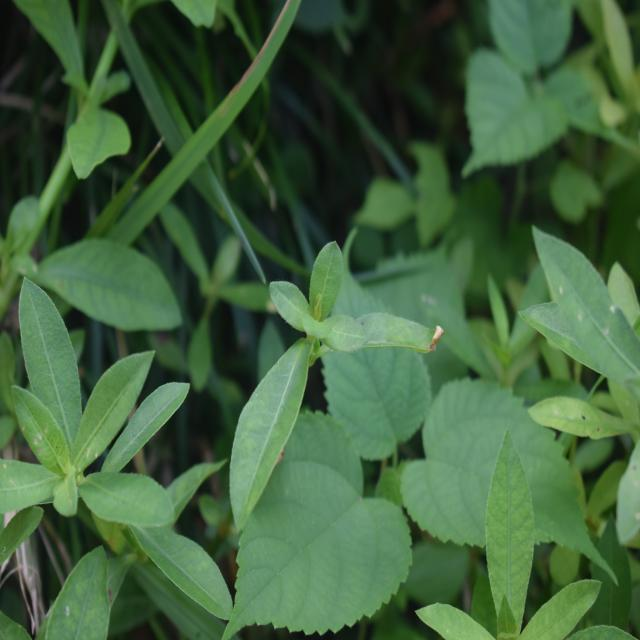Alligatorweed: (0, 272, 182, 572)
